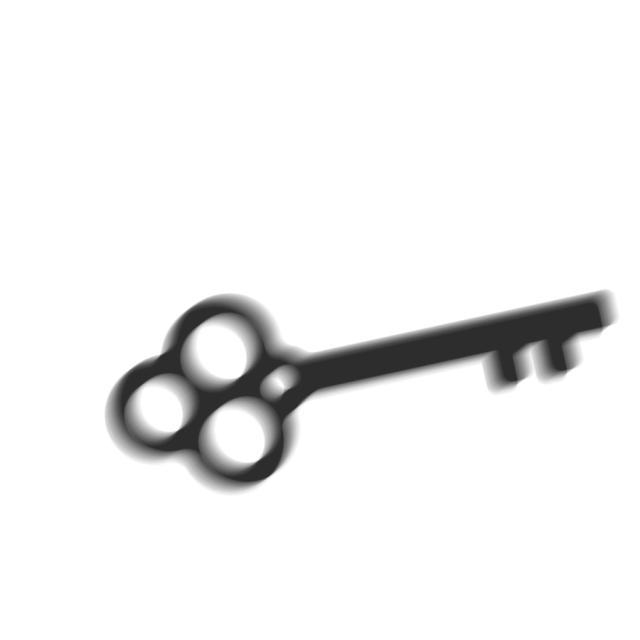key: (101, 293, 622, 500)
